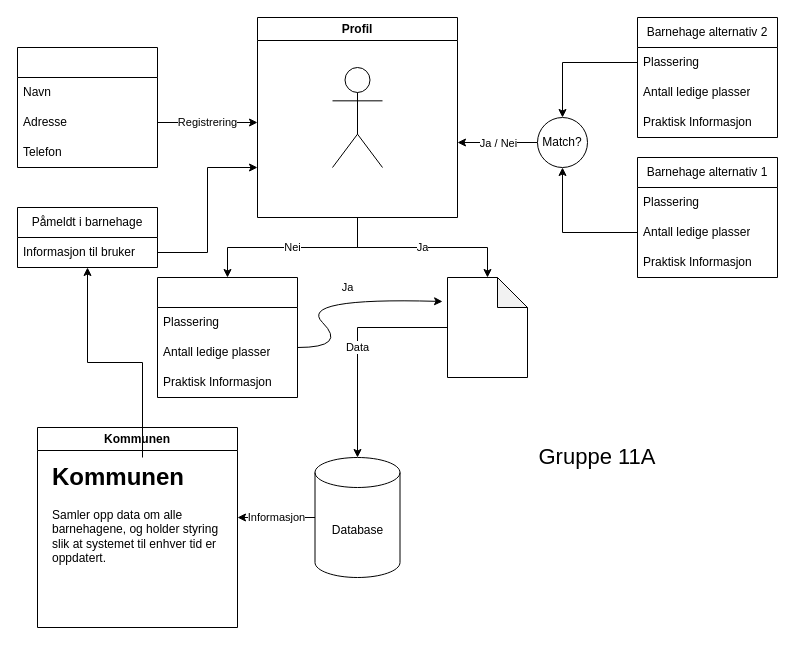
This 795x645 diagram has some shape labels left out. Here are the shapes that lost their labels. From the top down, the box of each, then its label:
(16, 46, 158, 168): Barnefamilie / Bruker
(332, 66, 382, 168): Bruker bestiller Basert på sin profil
(156, 276, 298, 398): Barnehage alternativ 3
(446, 276, 528, 378): Kontrakt
